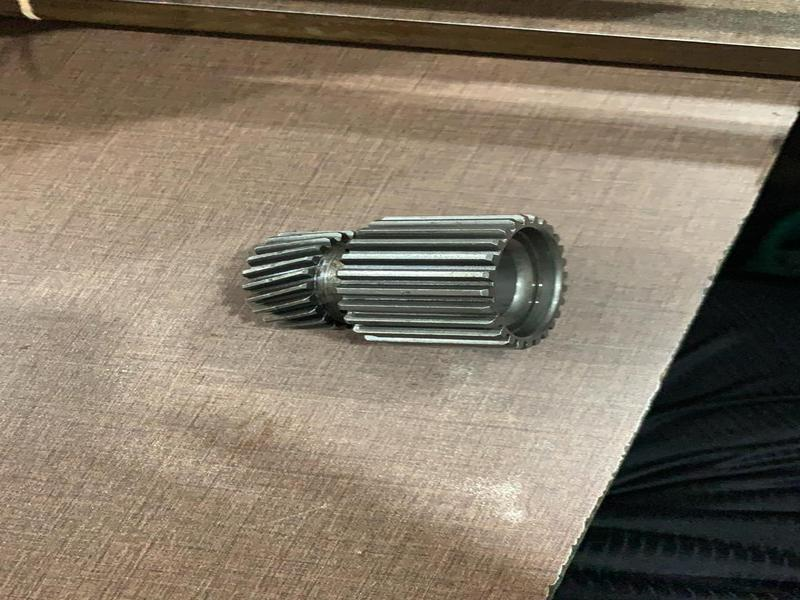engine gear ape: (231, 187, 571, 369)
